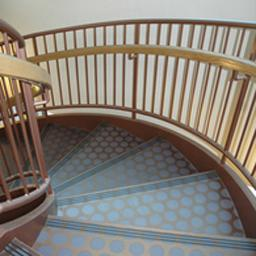Escaleras: (2, 10, 254, 255)
